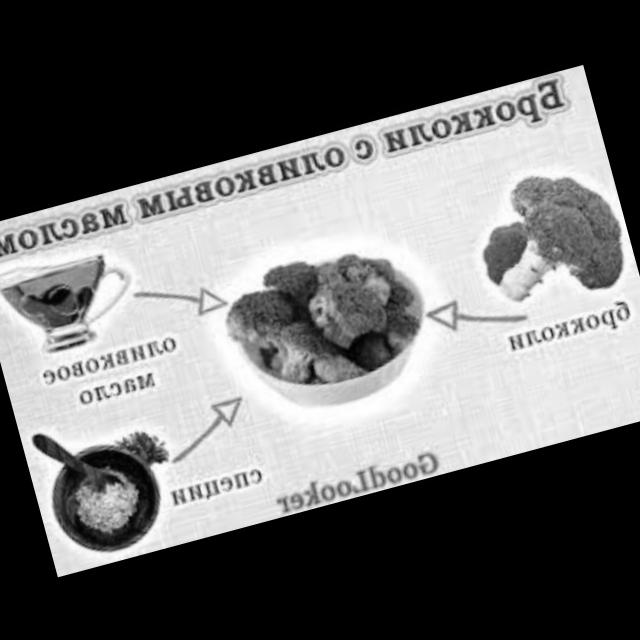bong cai xanh: (208, 238, 432, 400), (452, 154, 640, 334)
